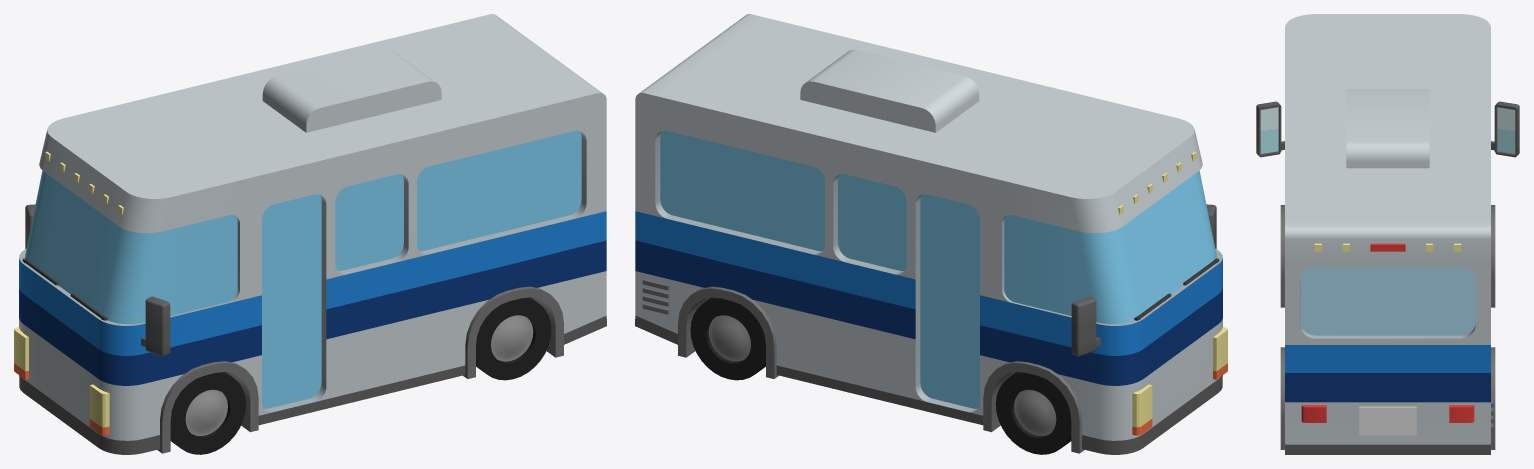
File: bus.glb
The picture shows the model from 3 angles, left to right: view 1: azimuth 30°, elevation 25°; view 2: azimuth 150°, elevation 25°; view 3: azimuth 270°, elevation 25°; orthographic projection. The views are drawn at different scales.
Visible parts, largest first — view 1: Cube.604, Circle.2375, Cube.605, Cube.606, Cube.609; view 2: Cube.604, Circle.2375, Cube.605, Cube.606, Cube.609, Cube.608; view 3: Cube.604, Cube.609, Cube.605, Cube.608, Cube.606.
Part boxes in pixels (x1=…): Cube.604: x1=19, y1=14, x2=606, y2=454; Circle.2375: x1=170, y1=297, x2=551, y2=454; Cube.605: x1=157, y1=286, x2=563, y2=453; Cube.606: x1=14, y1=151, x2=123, y2=435; Cube.609: x1=25, y1=204, x2=170, y2=356; Cube.604: x1=635, y1=14, x2=1222, y2=454; Circle.2375: x1=690, y1=297, x2=1071, y2=454; Cube.605: x1=678, y1=286, x2=1084, y2=453; Cube.606: x1=1118, y1=151, x2=1227, y2=435; Cube.609: x1=1071, y1=204, x2=1216, y2=356; Cube.608: x1=642, y1=279, x2=669, y2=314; Cube.604: x1=1285, y1=14, x2=1490, y2=454; Cube.609: x1=1256, y1=101, x2=1519, y2=157; Cube.605: x1=1280, y1=205, x2=1495, y2=449; Cube.608: x1=1359, y1=392, x2=1493, y2=435; Cube.606: x1=1301, y1=243, x2=1474, y2=422.
Bounding box in the file's own units: 2.27 × 1.24 × 1.08.
1 material, 1 textured.
